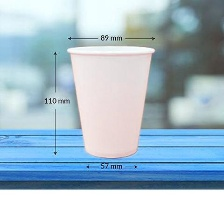paper_cup: (62, 41, 160, 160)
